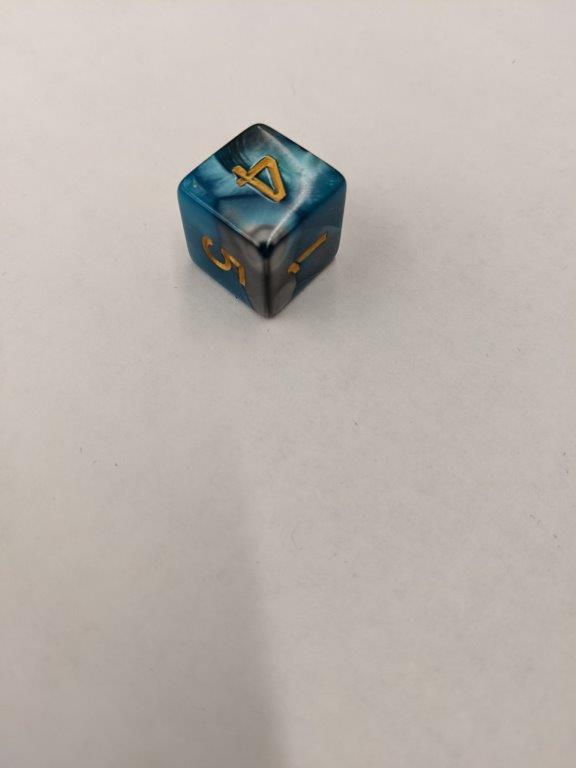d6-4: (176, 122, 347, 317)
